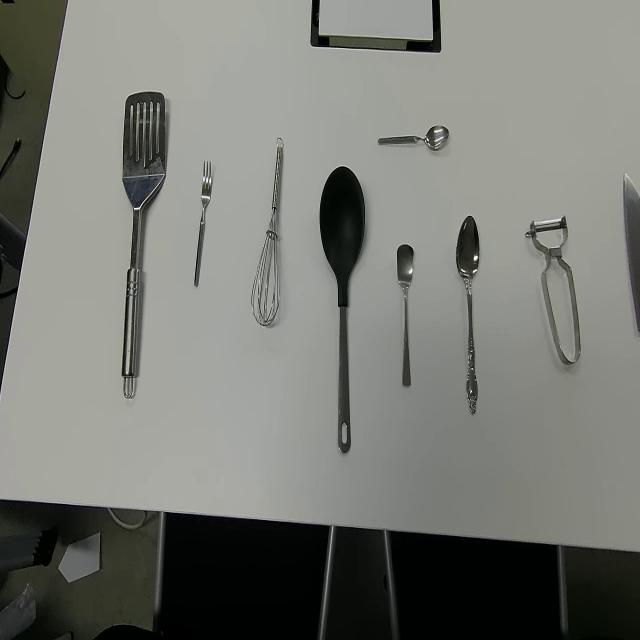Desert-Spoon: (455, 213, 481, 419)
Dinner-Fork: (193, 159, 212, 290)
Kitchen-Knife: (621, 169, 640, 338)
Peeler: (525, 214, 582, 366)
Serving-Spoon: (121, 90, 167, 400), (318, 164, 366, 458)
Tea-Spoon: (396, 242, 414, 389), (378, 123, 450, 152)
Whisk: (250, 135, 284, 327)
